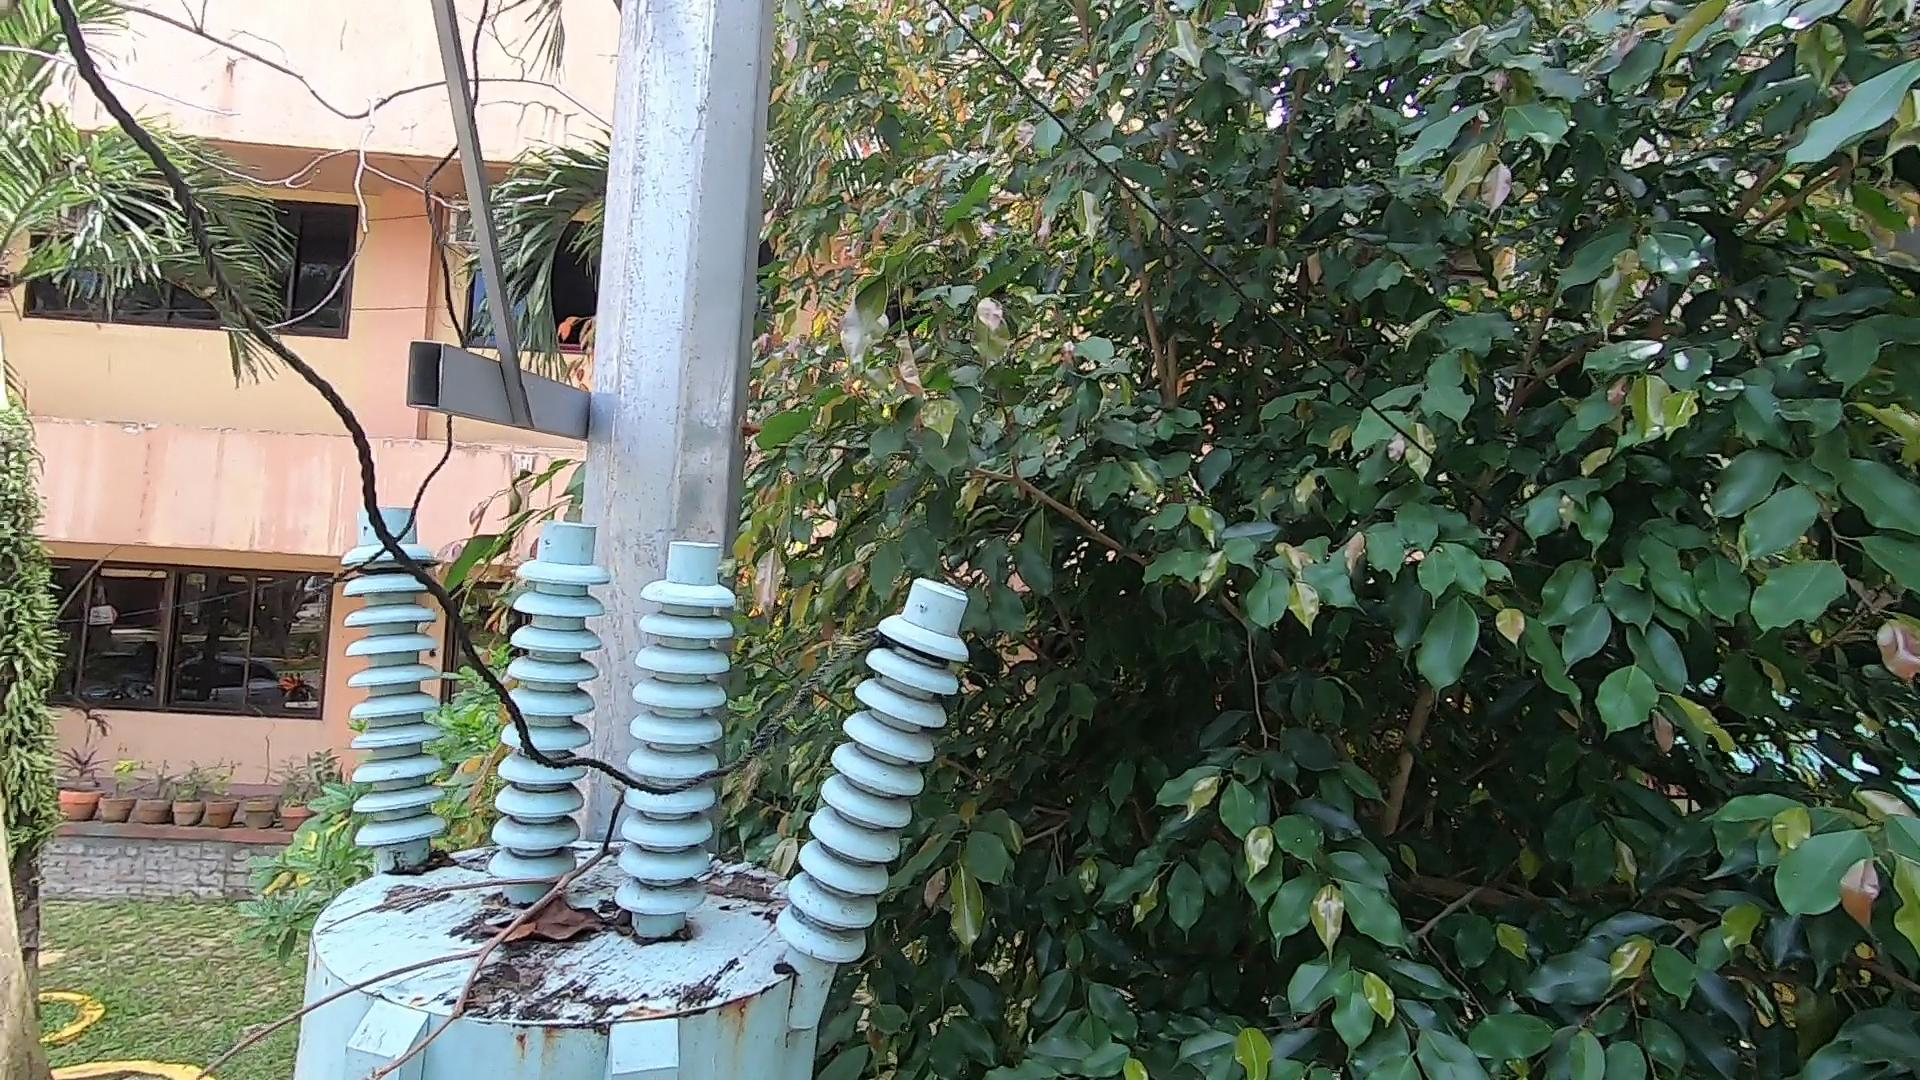leaf: (485, 882, 638, 957), (705, 847, 793, 927), (376, 837, 460, 880)
tree branch: (171, 778, 626, 1080)
